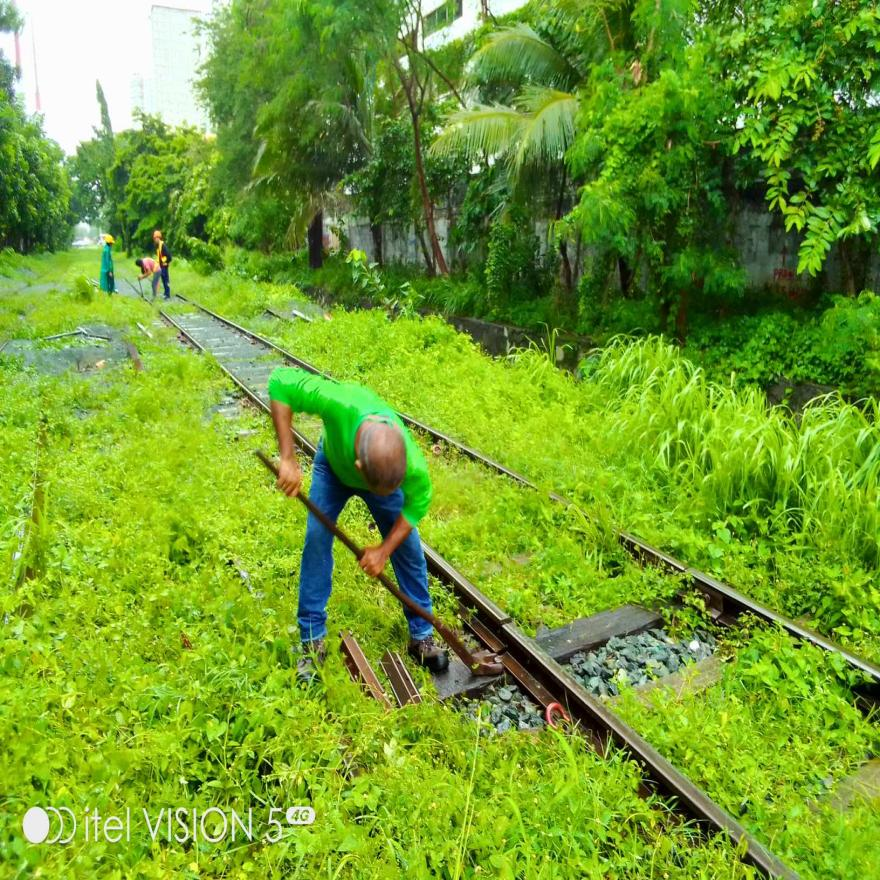railway-gap: (486, 594, 526, 654), (664, 544, 706, 595)
